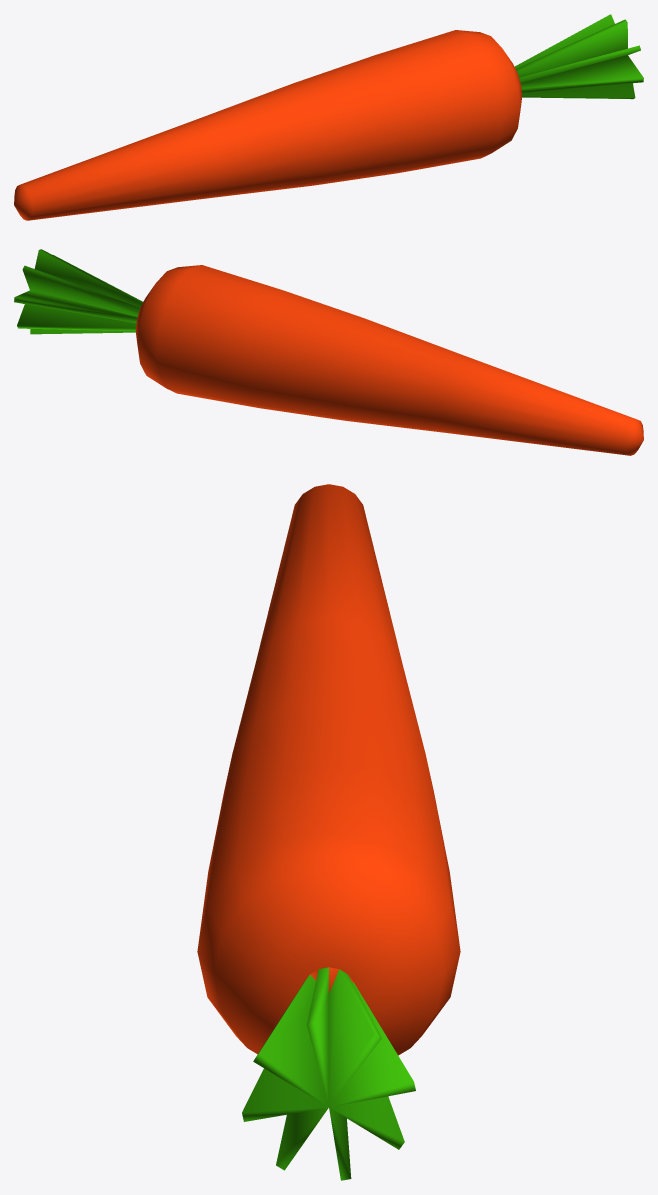
File: carrot.fbx
3 renders of one model, top to bottom at view 1: azimuth 30°, elevation 25°; view 2: azimuth 150°, elevation 25°; view 3: azimuth 270°, elevation 25°, orthographic. The views are drawn at different scales.
Visible parts, largest first — view 1: Sphere; view 2: Sphere; view 3: Sphere.
Boxes of the visible parts, box(x1,y1,x2,y2) form: Sphere: box(14, 14, 643, 220); Sphere: box(14, 249, 643, 455); Sphere: box(197, 484, 460, 1180).
Bounding box in the file's own units: 868 × 161 × 161.
